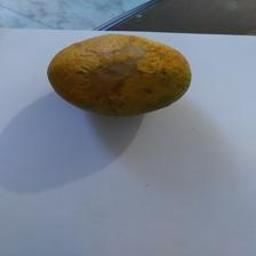Orange Semirotten: (35, 32, 200, 118)
